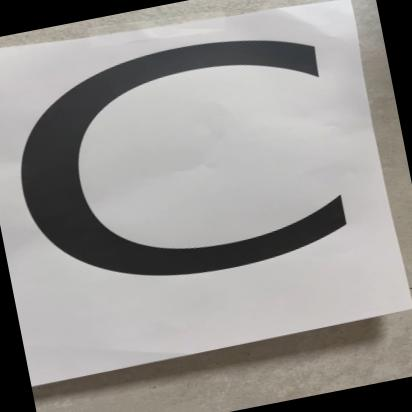seat: (0, 0, 403, 385)
